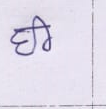i_matra: (34, 16, 54, 52)
